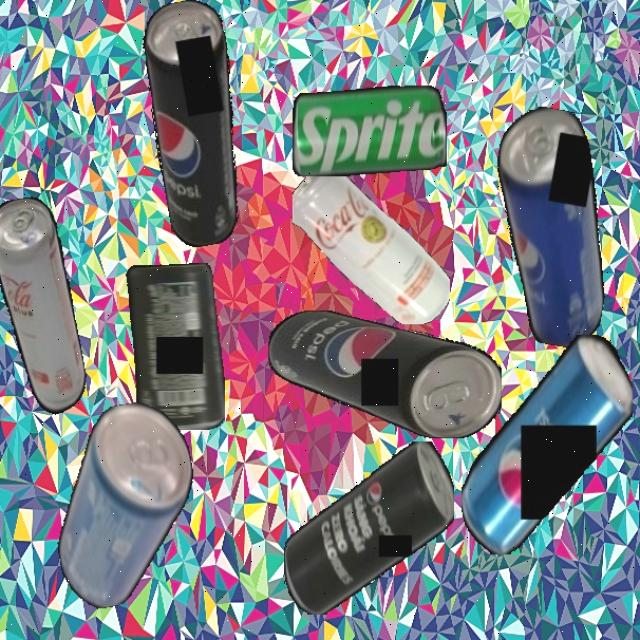debris: (468, 101, 635, 352), (36, 395, 213, 614), (460, 334, 632, 554), (133, 0, 259, 250), (283, 440, 454, 615), (267, 311, 502, 438), (291, 164, 450, 324), (0, 194, 92, 422), (125, 263, 225, 430), (292, 85, 446, 176)
